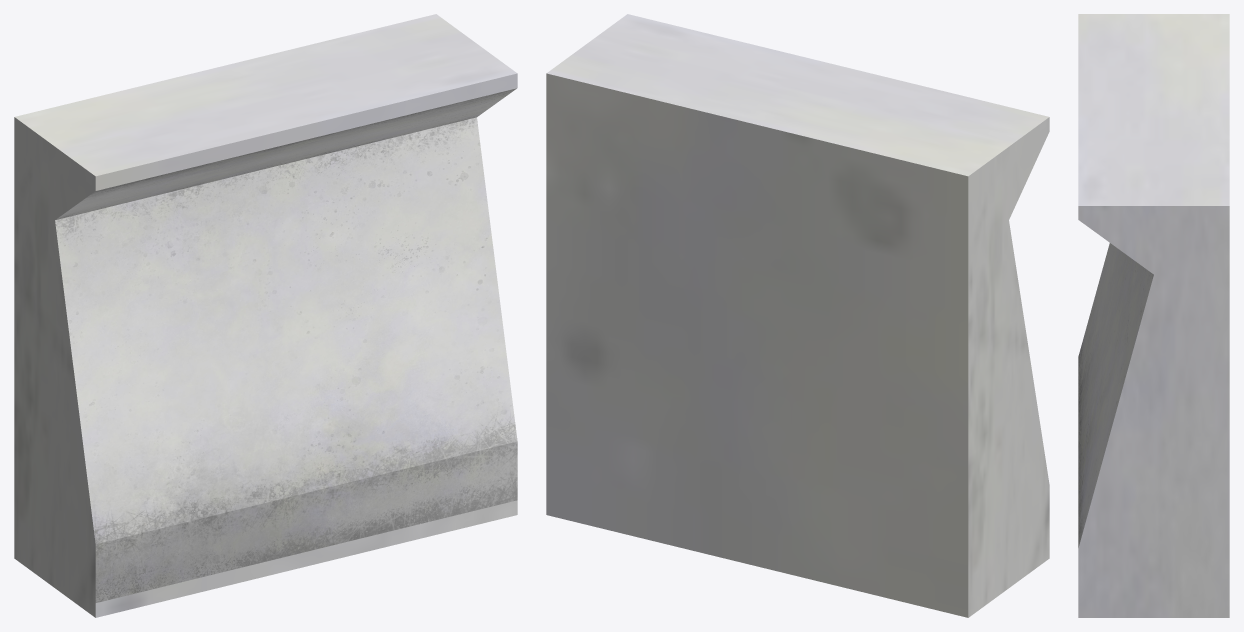
File: cdProperGLExporter.glb
3 views of the same model, side by side, from view 1: azimuth 30°, elevation 25°; view 2: azimuth 150°, elevation 25°; view 3: azimuth 270°, elevation 25° (orthographic). The views are drawn at different scales.
Visible parts, largest first — view 1: cdSpaceWall_001; view 2: cdSpaceWall_001; view 3: cdSpaceWall_001.
Part boxes in pixels (<box>): cdSpaceWall_001: <box>14,14,517,617</box>; cdSpaceWall_001: <box>546,14,1049,617</box>; cdSpaceWall_001: <box>1078,14,1229,617</box>.
Bounding box in the file's own units: 6 × 6 × 2.
1 material, 1 textured.
